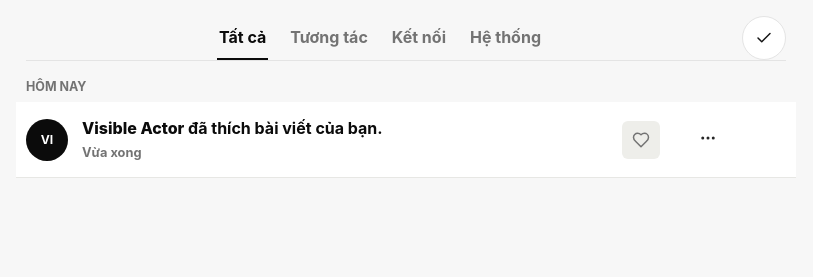
Scenario: NotificationScreen requests › rolls back an optimistic read state and reports a failed mark-read request
Click the button "Visible Actor đã thích bài viết của bạn. Vừa xong".
click(346, 140)  # box left=82, top=117, right=610, bottom=162
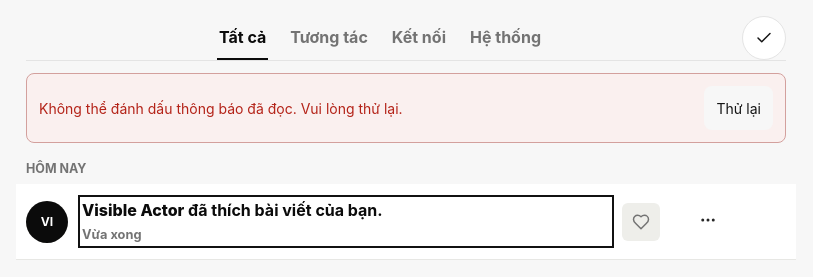
Expected: the message shows "Không thể đánh dấu", left=39, top=100, right=403, bottom=116
